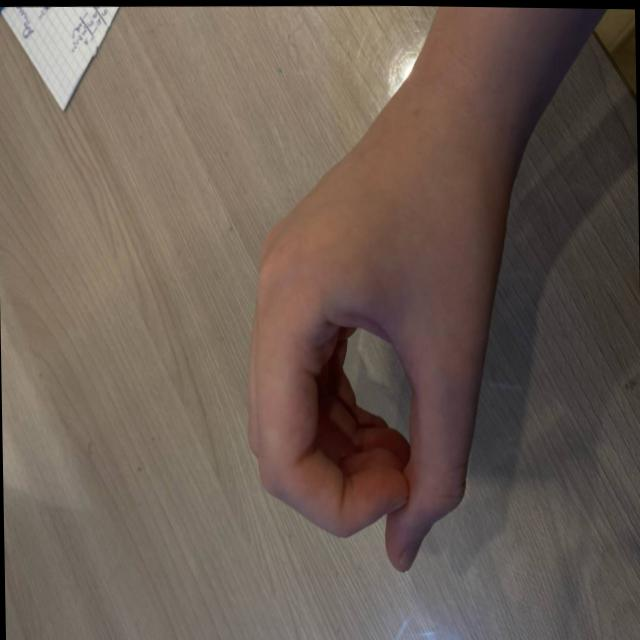e: (200, 129, 533, 593)
